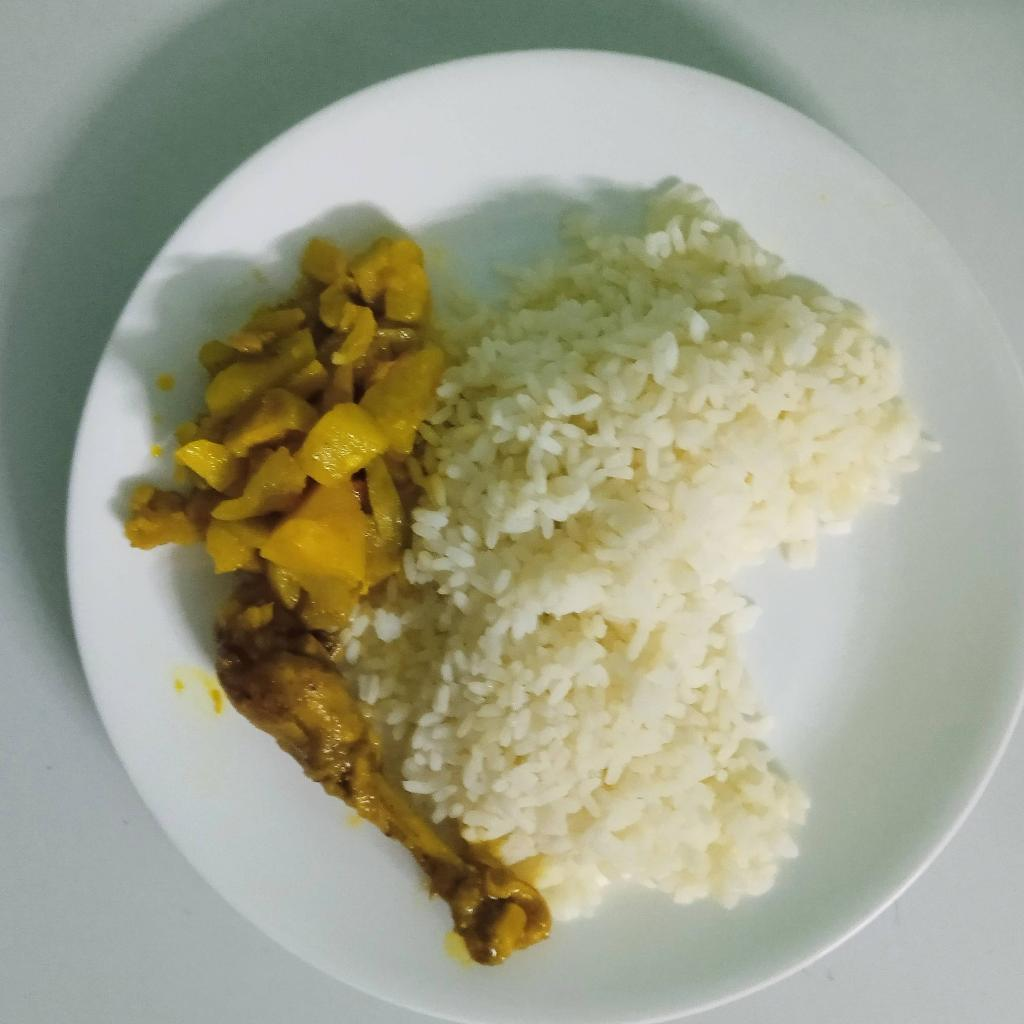chicken: (216, 632, 548, 960)
kumra-vaji: (120, 232, 436, 635)
rice: (355, 180, 915, 912)
